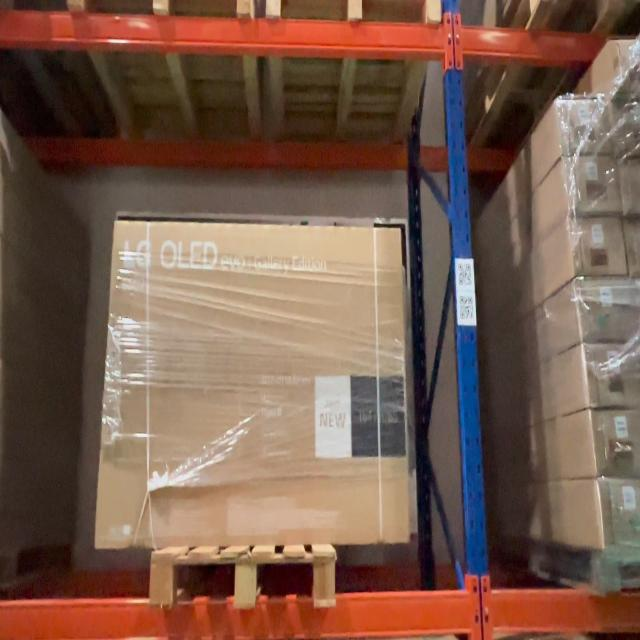box: (123, 233, 400, 542), (581, 279, 638, 342), (588, 346, 640, 407), (596, 412, 640, 477), (574, 219, 623, 274), (569, 160, 617, 213), (564, 101, 608, 154), (604, 482, 638, 548), (614, 40, 640, 97), (616, 102, 640, 157), (622, 160, 640, 212)
